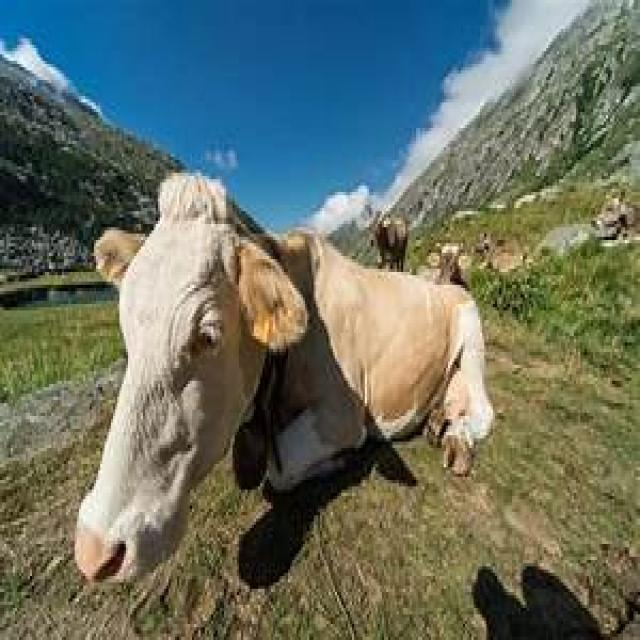cow: (73, 173, 497, 592), (369, 214, 410, 272)
